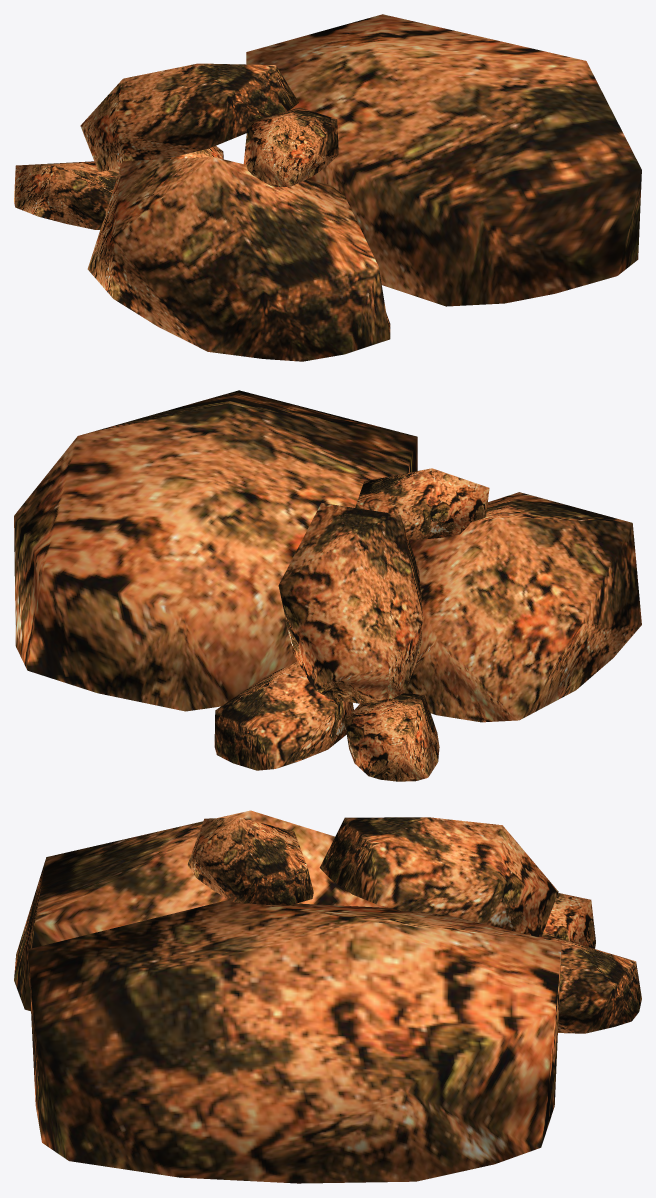
The model's file is stoneGroup4_tex3.fbx.
3 views of the same model, one above another, from view 1: azimuth 30°, elevation 25°; view 2: azimuth 150°, elevation 25°; view 3: azimuth 270°, elevation 25° (orthographic). The views are drawn at different scales.
Parts seen in each view (by area): view 1: stoneGroup4_tex3Object; view 2: stoneGroup4_tex3Object; view 3: stoneGroup4_tex3Object.
Part boxes in pixels (bbox=[...]): stoneGroup4_tex3Object: bbox=[14, 14, 641, 361]; stoneGroup4_tex3Object: bbox=[14, 390, 641, 781]; stoneGroup4_tex3Object: bbox=[14, 810, 641, 1183].
Bounding box in the file's own units: 1.85 × 0.5896 × 1.78.
1 material, 1 textured.
